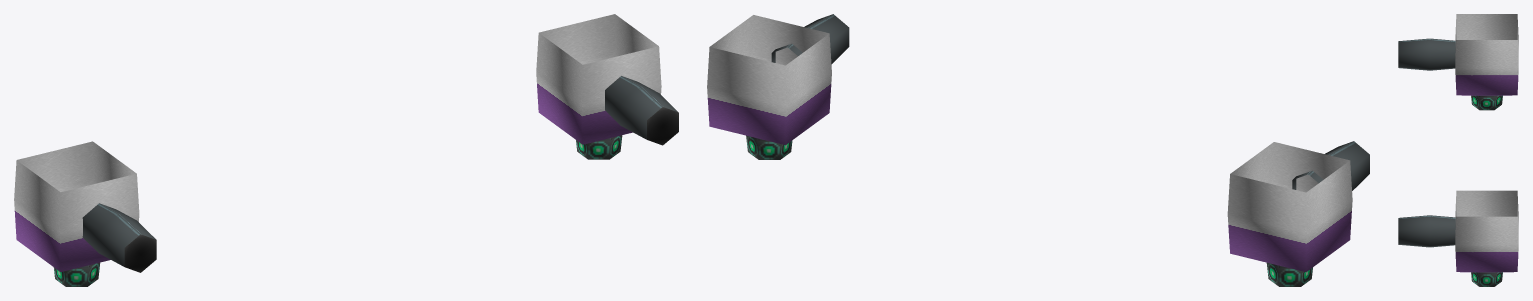
File: SecondaryWeapons.fbx
3 renders of one model, left to right at view 1: azimuth 30°, elevation 25°; view 2: azimuth 150°, elevation 25°; view 3: azimuth 270°, elevation 25°, orthographic. The views are drawn at different scales.
Parts seen in each view (by area): view 1: SecondaryWeapon.L, SecondaryWeapons.R; view 2: SecondaryWeapon.L, SecondaryWeapons.R; view 3: SecondaryWeapon.L, SecondaryWeapons.R.
Boxes of the visible parts, bbox=[...] form: SecondaryWeapon.L: bbox=[536, 14, 678, 159]; SecondaryWeapons.R: bbox=[14, 141, 156, 286]; SecondaryWeapon.L: bbox=[707, 14, 849, 159]; SecondaryWeapons.R: bbox=[1227, 141, 1369, 286]; SecondaryWeapon.L: bbox=[1398, 190, 1518, 286]; SecondaryWeapons.R: bbox=[1398, 14, 1518, 110].
Size of the model in its own units: 737 by 137 by 185.
